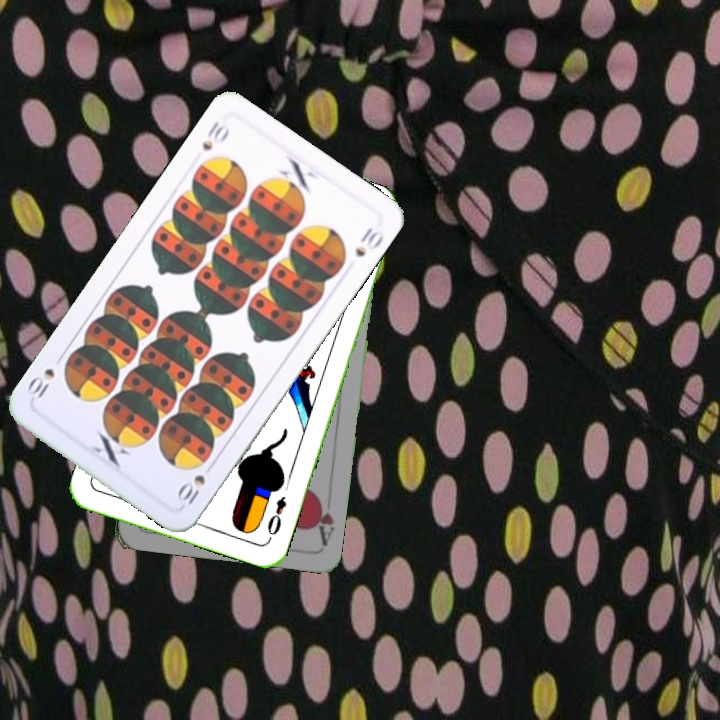EO: (263, 492, 289, 543)
HA: (309, 490, 337, 548)
S10: (197, 116, 232, 155), (173, 470, 208, 507)
